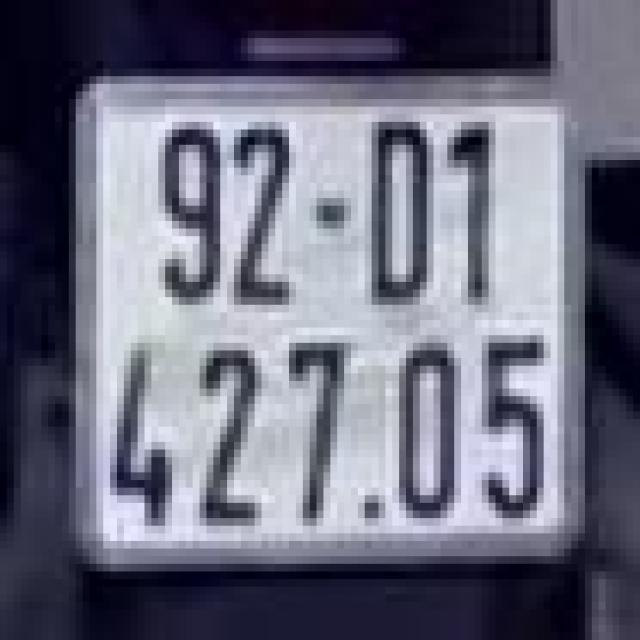0: (378, 328, 468, 526)
1: (451, 107, 506, 312)
2: (193, 328, 268, 541), (227, 107, 296, 312)
4: (103, 312, 179, 534)
5: (471, 320, 554, 518)
7: (279, 316, 354, 537)
9: (141, 107, 224, 312)
D: (354, 103, 444, 308)
